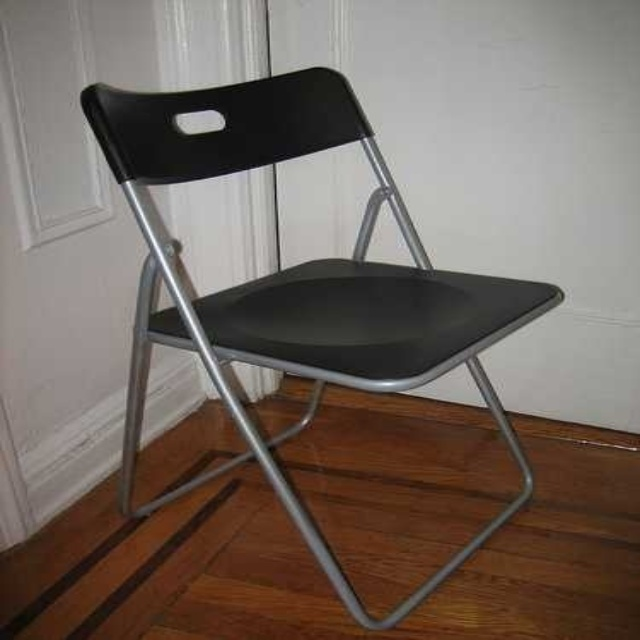obstacle: (82, 68, 561, 630)
